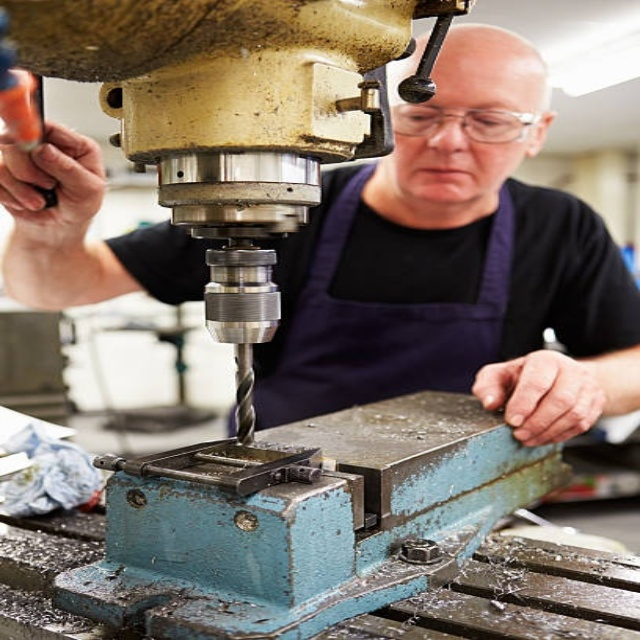Gafas: (390, 102, 544, 144)
Sin_guantes: (0, 92, 110, 241), (473, 346, 608, 447)
Sin_mascara: (405, 159, 489, 199)
